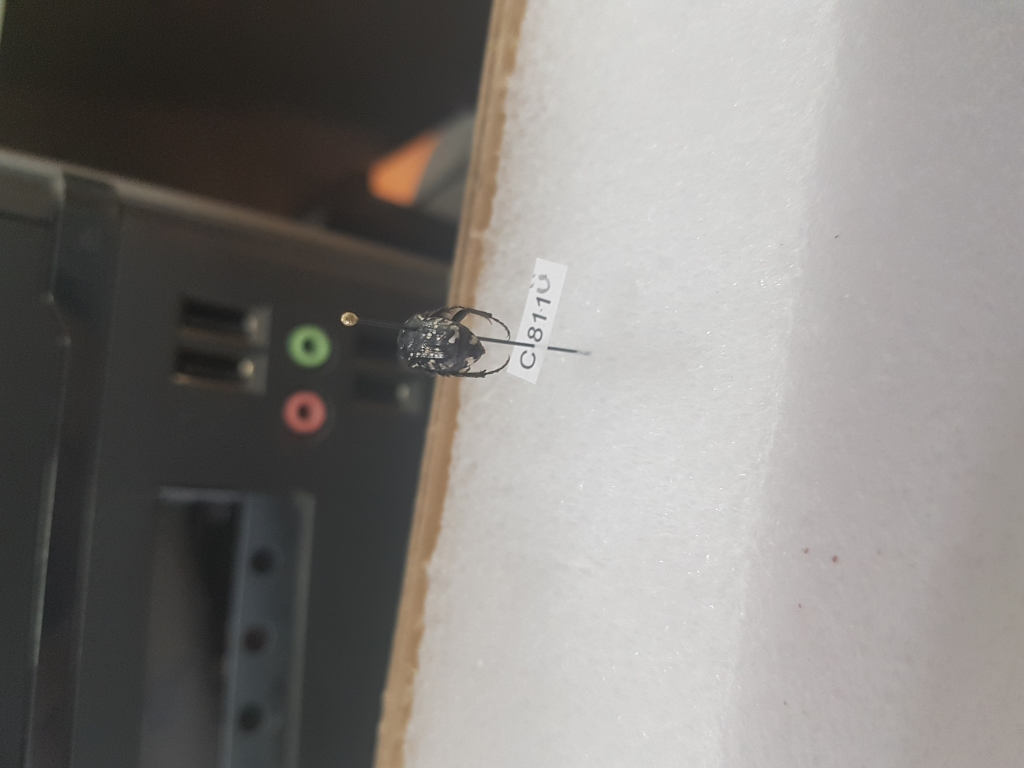Oxythyrea_albopicta: (391, 300, 519, 399)
